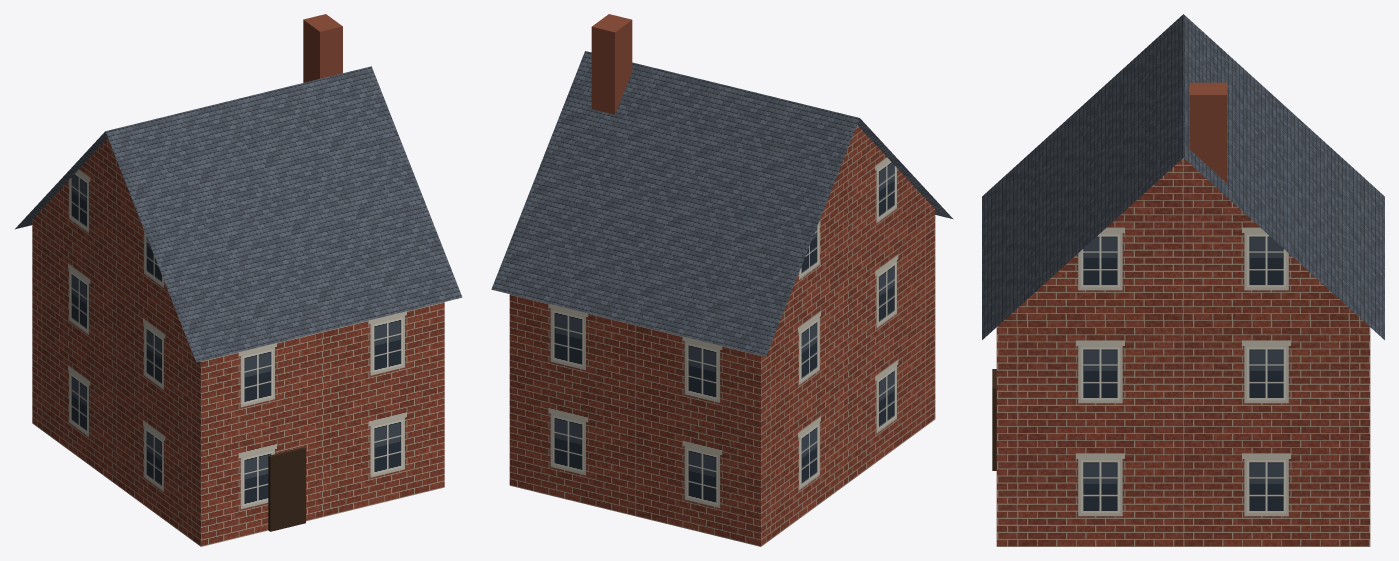
File: casa_tijolo.glb
3 views of the same model, side by side, from view 1: azimuth 30°, elevation 25°; view 2: azimuth 150°, elevation 25°; view 3: azimuth 270°, elevation 25° (orthographic). The views are drawn at different scales.
Parts seen in each view (by area): view 1: Casa.004; view 2: Casa.004; view 3: Casa.004.
Boxes of the visible parts, x1,y1,x2,y2 form: Casa.004: (15, 14, 462, 546); Casa.004: (491, 14, 953, 546); Casa.004: (982, 14, 1384, 546).
Bounding box in the file's own units: 8.2 × 11.8 × 9.7.
4 materials, 2 textured.
